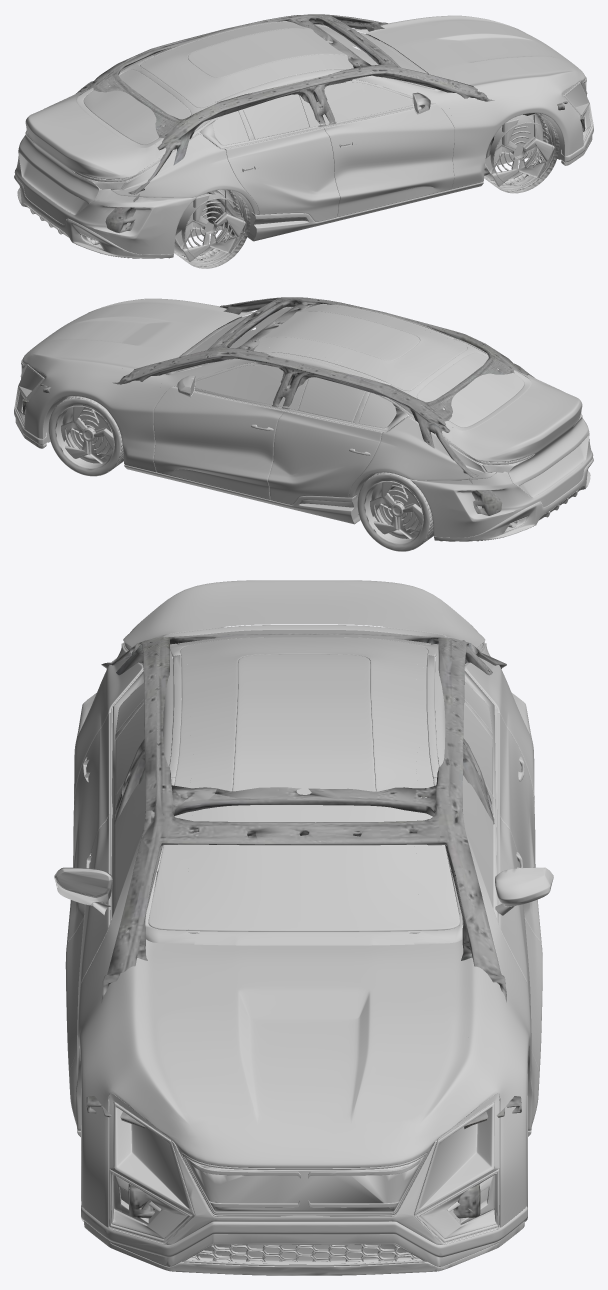
The model's file is car-sedan.glb.
The picture shows the model from 3 angles, top to bottom: view 1: azimuth 30°, elevation 25°; view 2: azimuth 150°, elevation 25°; view 3: azimuth 270°, elevation 25°; orthographic projection. The views are drawn at different scales.
Parts seen in each view (by area): view 1: frame, doorFR, bonnet, roof, tailgate, doorRR, bumperR, fenderR, quarterR, rearGlass, wheelFR, wheelRR (+10 smaller); view 2: frame, doorFL, bonnet, roof, tailgate, doorRL, fenderL, bumperR, quarterL, wheelRL, wheelFL, rearGlass (+9 smaller); view 3: bonnet, frame, roof, windscreen, bumperF, tailgate, fenderR, fenderL, grille, glassFR, glassFL, lampL (+14 smaller).
Part boxes in pixels (box(x1,y1,x2,y2)): frame: box(76, 14, 584, 235); doorFR: box(324, 103, 454, 216); bonnet: box(354, 17, 586, 96); roof: box(140, 23, 352, 107); tailgate: box(18, 93, 155, 214); doorRR: box(225, 128, 339, 221); bumperR: box(14, 135, 196, 258); fenderR: box(445, 75, 583, 188); quarterR: box(112, 91, 259, 214); rearGlass: box(79, 67, 192, 145); wheelFR: box(484, 113, 559, 193); wheelRR: box(174, 189, 250, 268); frame: box(22, 297, 534, 517); doorFL: box(153, 386, 283, 499); bonnet: box(22, 299, 253, 379); roof: box(255, 306, 467, 390); tailgate: box(452, 375, 589, 497); doorRL: box(268, 411, 382, 504); fenderL: box(24, 358, 162, 471); bumperR: box(411, 419, 593, 541); quarterL: box(348, 374, 496, 497); wheelRL: box(357, 472, 433, 551); wheelFL: box(48, 396, 123, 476); rearGlass: box(415, 350, 528, 428); bonnet: box(126, 939, 481, 1215); frame: box(86, 633, 521, 1218); roof: box(188, 637, 420, 794); windscreen: box(183, 805, 425, 945); bumperF: box(81, 1142, 527, 1275); tailgate: box(123, 580, 485, 647); fenderR: box(69, 936, 150, 1227); fenderL: box(458, 937, 539, 1227); grille: box(184, 1156, 424, 1216); glassFR: box(111, 671, 199, 944); glassFL: box(409, 671, 496, 944); lampL: box(392, 1093, 523, 1244).
Bounding box in the file's own units: 4.35 × 1.23 × 1.8.
Materials: 19 (1 with a texture image).
